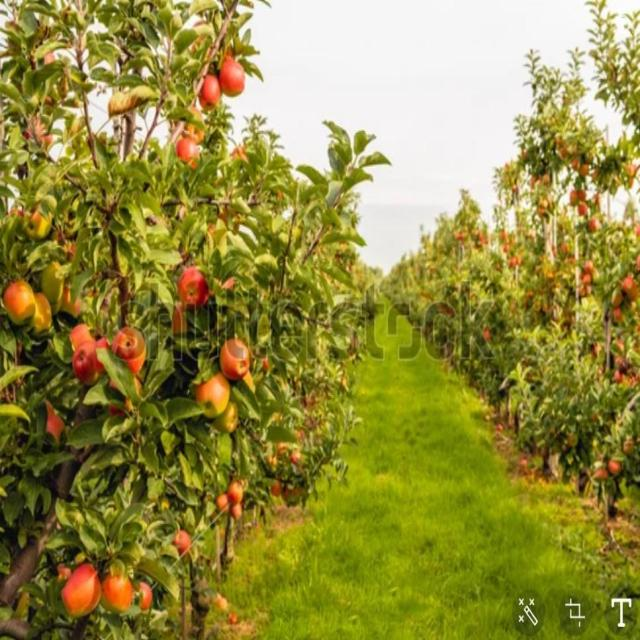row: (200, 289, 639, 640)
